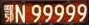N: (15, 5, 25, 23)
